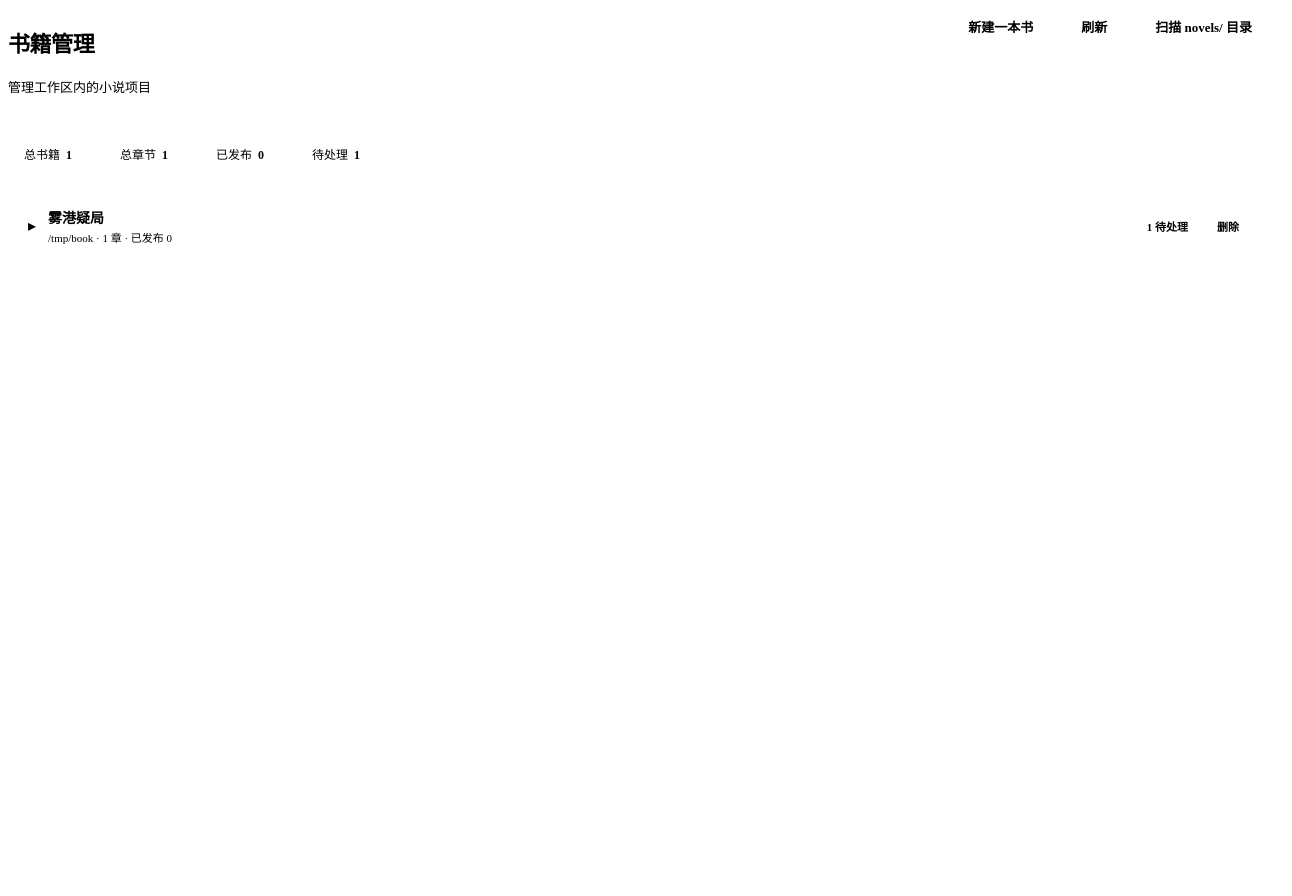
Test case: BooksPage session model › shows a visible book-level session panel for the selected book
Click the text "雾港疑局" at (76, 218), box [48,210,104,226]
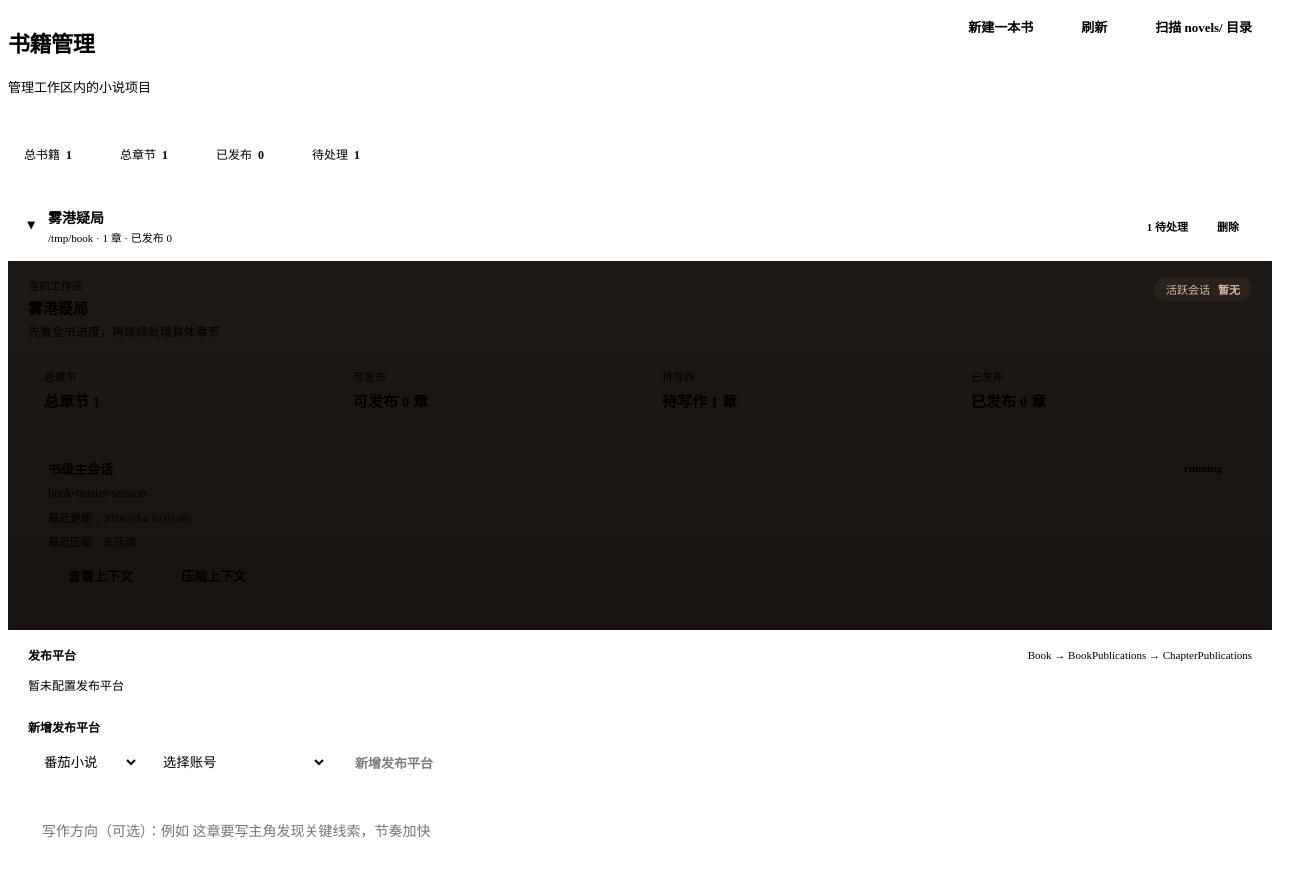
Check: the text "书级主会话" is shown, box [48,458,113,478]
Check: the button "压缩上下文" is shown, box [161,556,266,594]
Check: the button "查看上下文" is shown, box [48,556,153,594]
